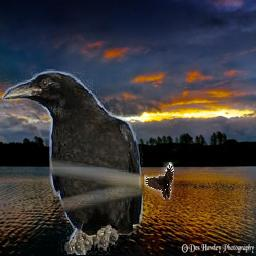Crow: (0, 69, 143, 255), (144, 162, 174, 200)
